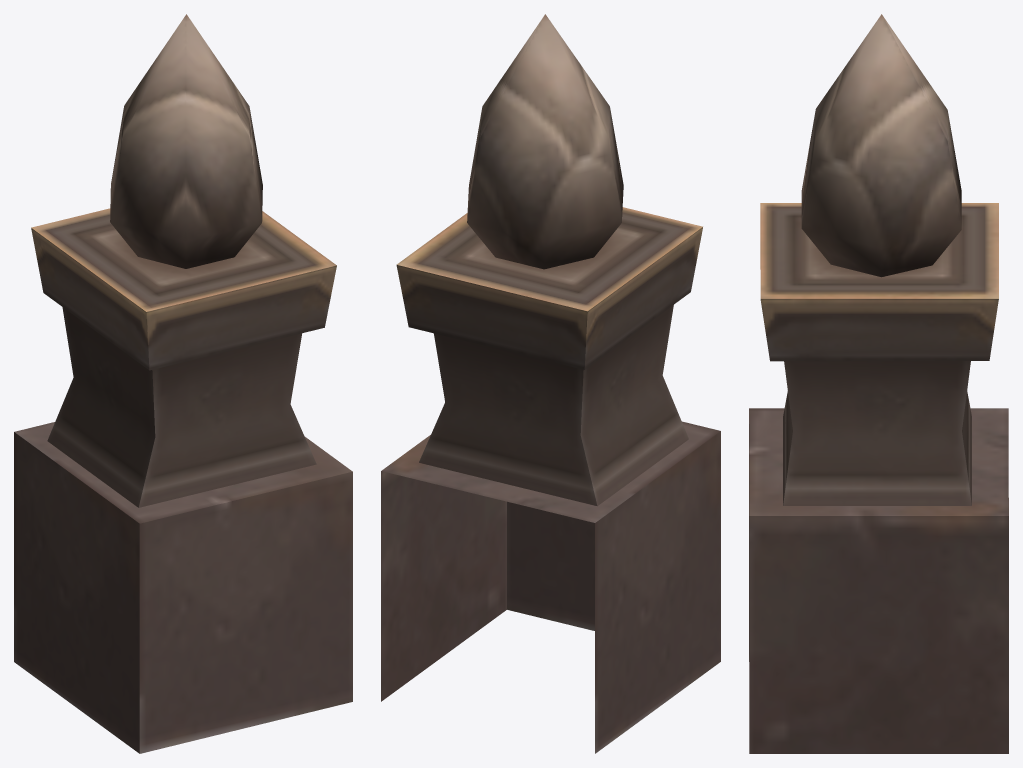
The picture shows the model from 3 angles, left to right: view 1: azimuth 30°, elevation 25°; view 2: azimuth 150°, elevation 25°; view 3: azimuth 270°, elevation 25°; orthographic projection. The views are drawn at different scales.
Parts seen in each view (by area): view 1: 52056_02; view 2: 52056_02; view 3: 52056_02.
Boxes of the visible parts, x1=… form: 52056_02: x1=14, y1=14, x2=352, y2=753; 52056_02: x1=381, y1=14, x2=720, y2=753; 52056_02: x1=749, y1=14, x2=1008, y2=753.
Bounding box in the file's own units: 76.49 × 228 × 78.04.
